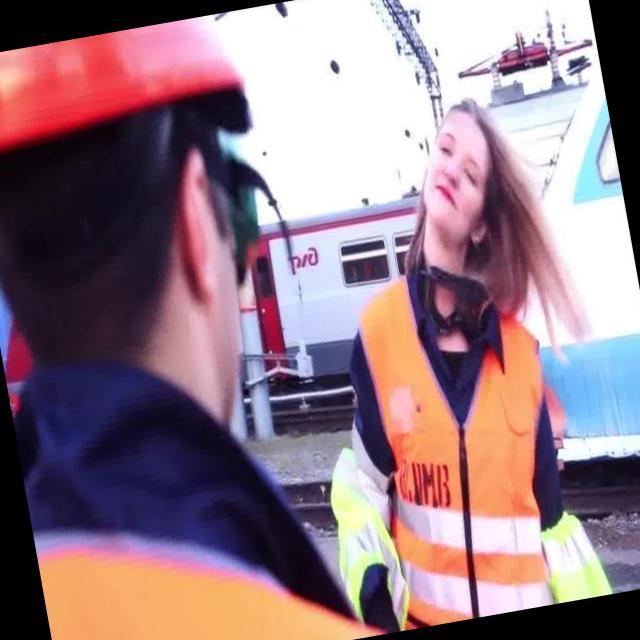Helmet: (0, 16, 265, 179)
Person: (0, 5, 310, 640), (316, 64, 640, 640)
Safety Vest: (350, 262, 586, 630)
no-helmet: (430, 96, 519, 165)
